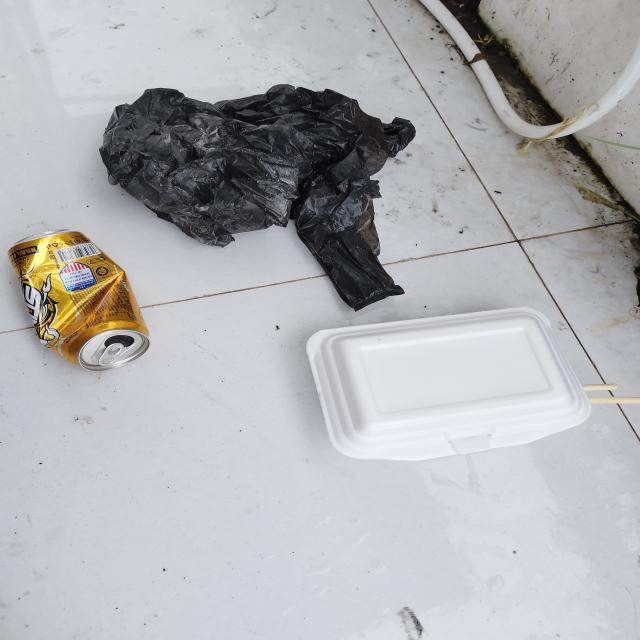bag: (99, 82, 418, 314)
can: (7, 229, 152, 374)
foam box: (306, 307, 591, 464)
